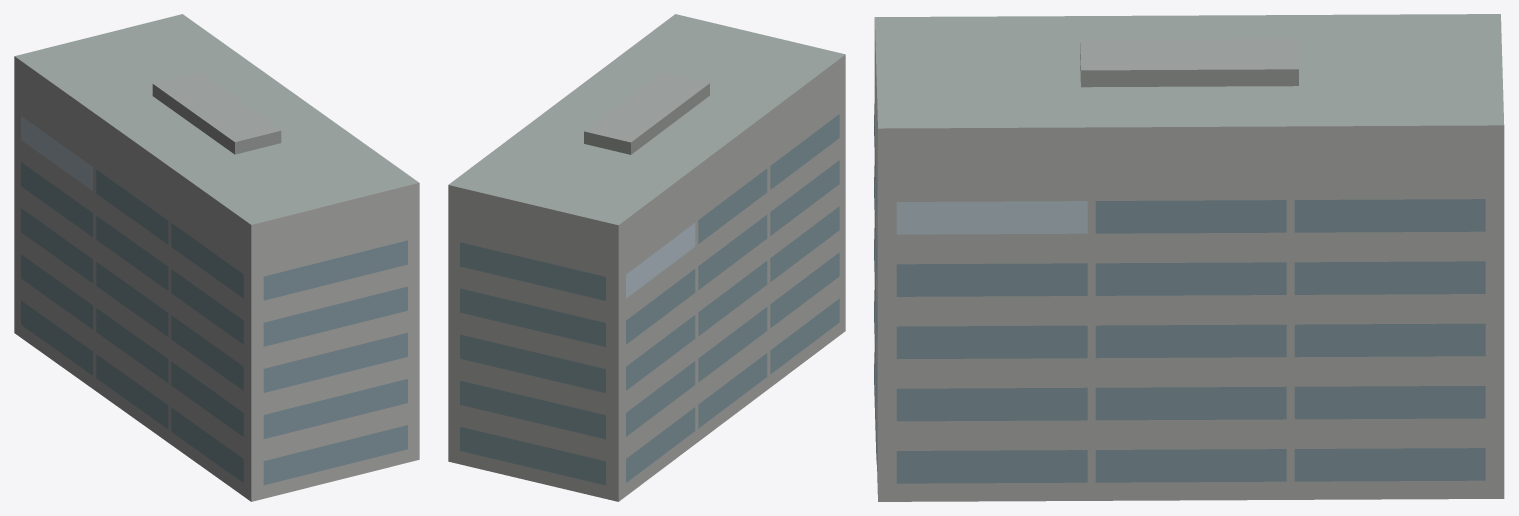
File: fallback-olympic-athletes-village-229.glb
3 renders of one model, left to right at view 1: azimuth 30°, elevation 25°; view 2: azimuth 150°, elevation 25°; view 3: azimuth 270°, elevation 25°, orthographic. The views are drawn at different scales.
Parts seen in each view (by area): view 1: fallback-olympic-athletes-village-229; view 2: fallback-olympic-athletes-village-229; view 3: fallback-olympic-athletes-village-229.
Part boxes in pixels (x1,y1,x2,y2): fallback-olympic-athletes-village-229: [14, 14, 419, 501]; fallback-olympic-athletes-village-229: [448, 14, 845, 501]; fallback-olympic-athletes-village-229: [874, 14, 1504, 501].
Bounding box in the file's own units: 12.11 × 19.12 × 28.02.
